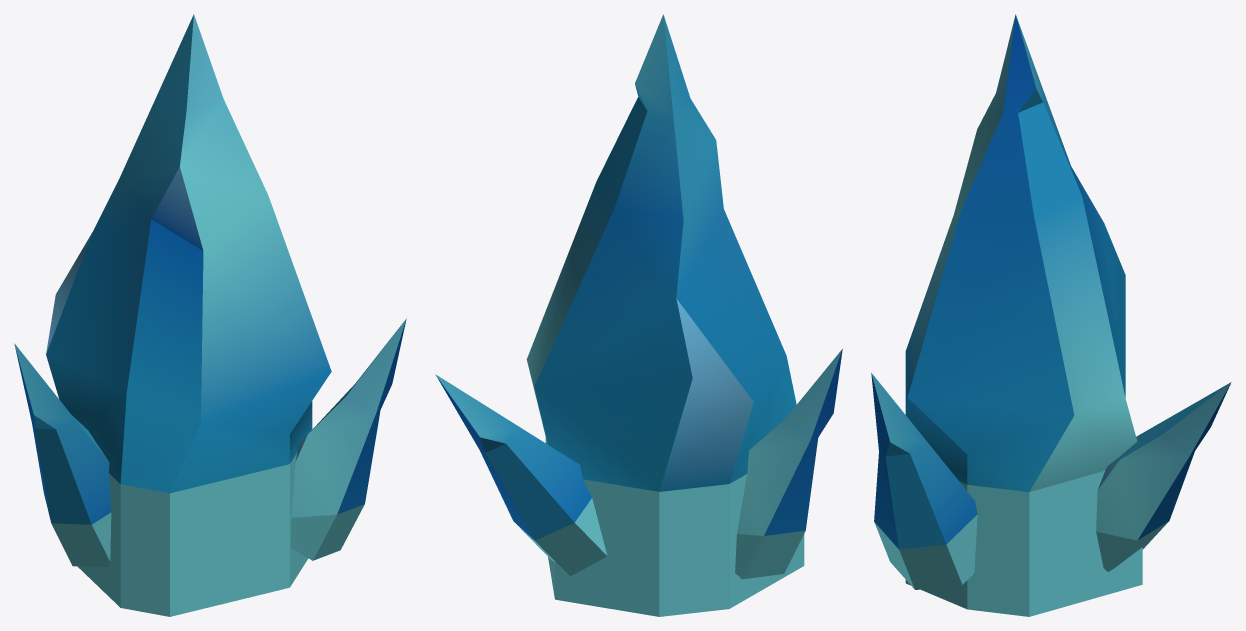
Rendered from PRJ_IceSpike_L2.fbx.
The picture shows the model from 3 angles, left to right: view 1: azimuth 30°, elevation 25°; view 2: azimuth 150°, elevation 25°; view 3: azimuth 270°, elevation 25°; orthographic projection.
Parts seen in each view (by area): view 1: PRJ_Ice_L2, Icicle_01, Icicle_02; view 2: PRJ_Ice_L2, Icicle_03, Icicle_02; view 3: PRJ_Ice_L2, Icicle_01, Icicle_03.
Boxes of the visible parts, left/top/right/bottom form: PRJ_Ice_L2: left=46, top=14, right=331, bottom=616; Icicle_01: left=291, top=318, right=406, bottom=560; Icicle_02: left=14, top=343, right=111, bottom=567; PRJ_Ice_L2: left=526, top=14, right=804, bottom=616; Icicle_03: left=435, top=374, right=607, bottom=576; Icicle_02: left=735, top=349, right=842, bottom=579; PRJ_Ice_L2: left=905, top=14, right=1142, bottom=616; Icicle_01: left=871, top=373, right=977, bottom=589; Icicle_03: left=1096, top=382, right=1231, bottom=571.
Size of the model in its own units: 92.31 by 150 by 89.26.
